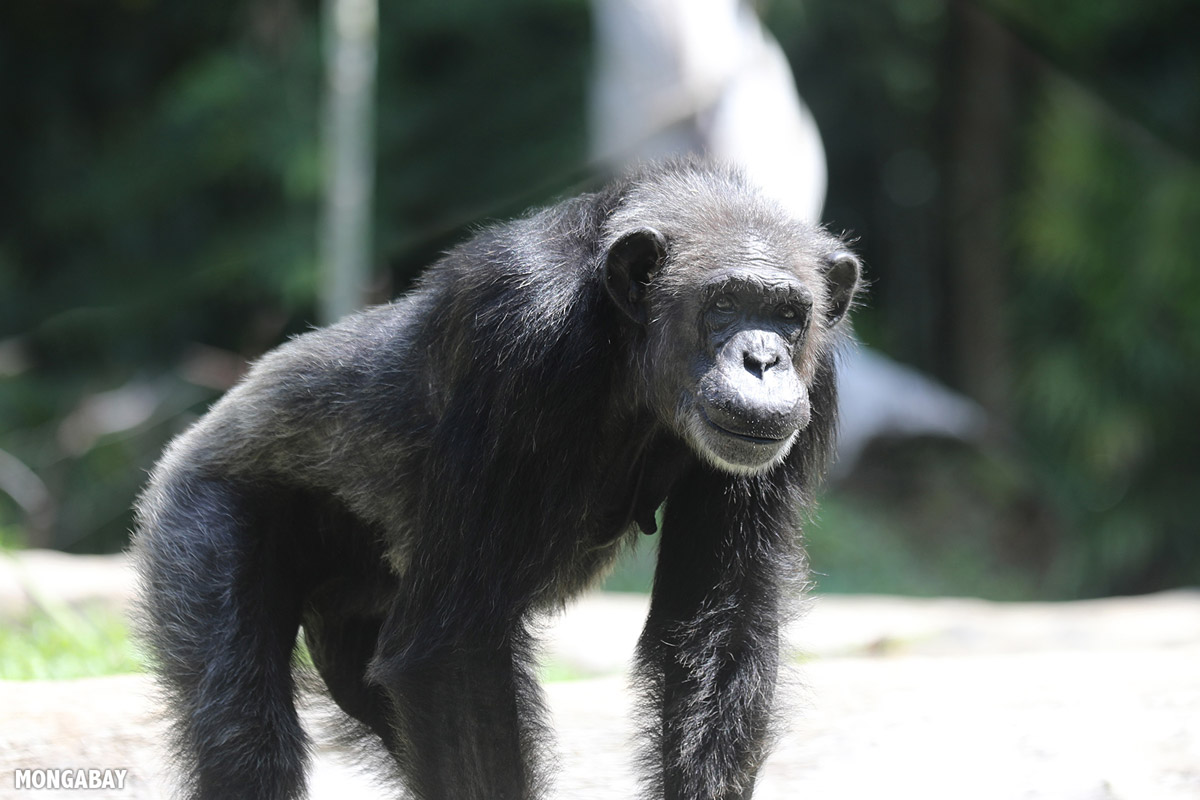Champanze: (122, 144, 880, 800)
